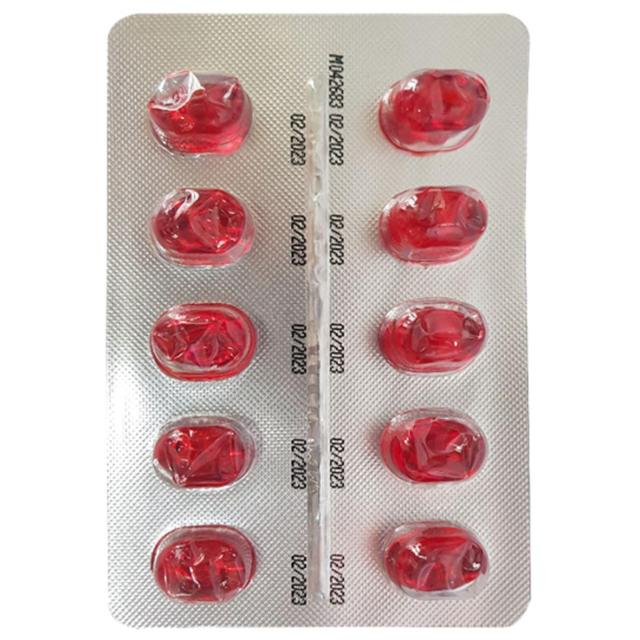blister: (98, 6, 533, 632)
